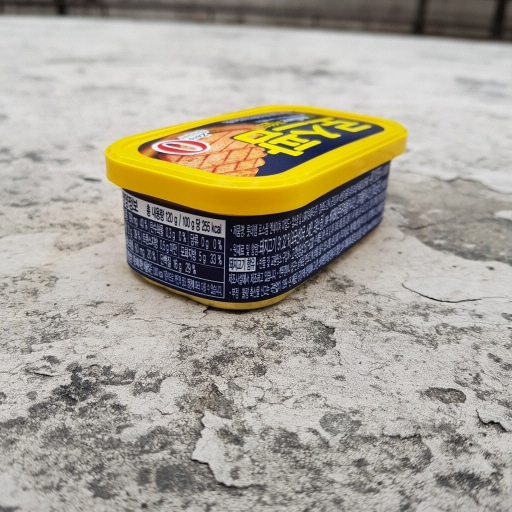Metal_2: (102, 105, 409, 312)
